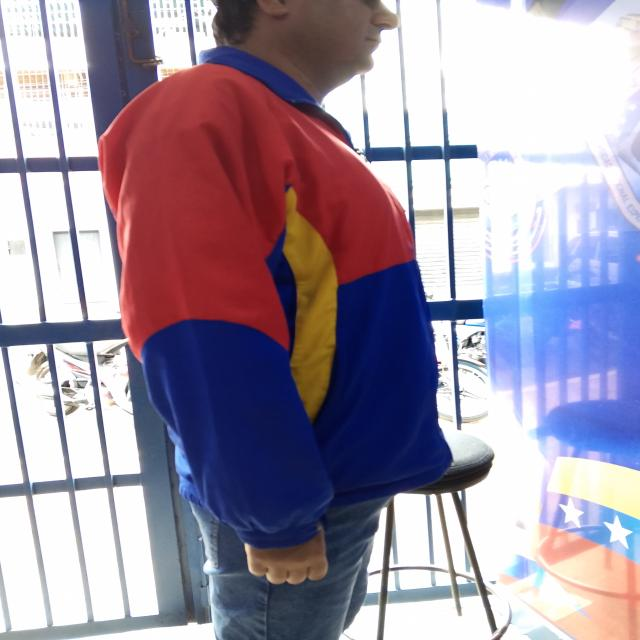chaqueta_unefa: (97, 45, 455, 549)
